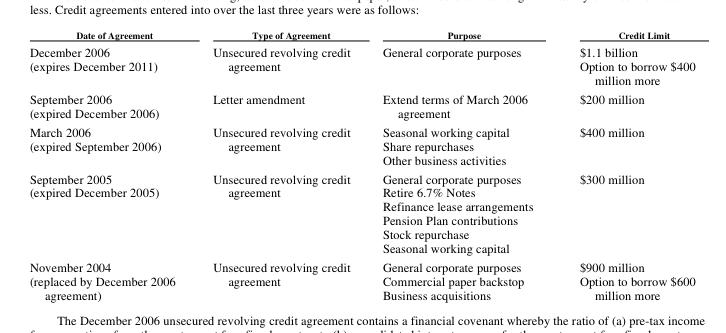table: (28, 28, 694, 301)
table column: (365, 28, 555, 301), (193, 28, 365, 301), (28, 28, 193, 301), (555, 28, 694, 301)
table column header: (28, 28, 694, 42)
table row: (28, 168, 694, 257), (28, 42, 694, 89), (28, 122, 694, 168), (28, 257, 694, 301), (28, 89, 694, 122), (28, 28, 694, 42)
